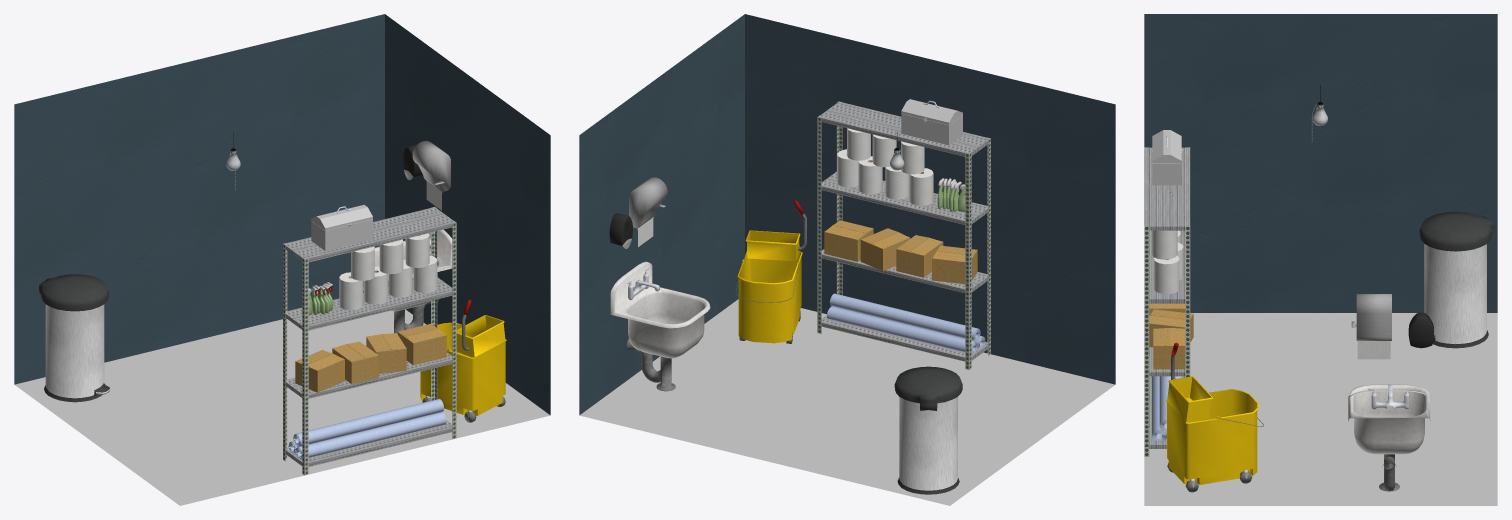
Rendered from storageCloset.gltf.
The picture shows the model from 3 angles, left to right: view 1: azimuth 30°, elevation 25°; view 2: azimuth 150°, elevation 25°; view 3: azimuth 270°, elevation 25°; orthographic projection. The views are drawn at different scales.
Visible parts, largest first — view 1: closetWalls, Box004, Box002, Cylinder005, Box005, go_toolbox, stepTrashCan, Helix003, Helix001, go_cardboardBox, go_cardboardBox003, go_cardboardBox002 (+10 smaller); view 2: closetWalls, Box004, Box002, sinkBody, Cylinder005, Box005, stepTrashCan, go_toolbox, Helix003, Helix002, go_cardboardBox, go_cardboardBox001 (+12 smaller); view 3: closetWalls, Box002, Cylinder005, sinkBody, Box004, Box005, stepTrashCan, case, go_toolbox, go_cardboardBox, go_paperTowelRoll003, go_cardboardBox001 (+7 smaller).
Part boxes in pixels (box(x1,y1,x2,y2)): closetWalls: box(14, 14, 550, 505); Box004: box(284, 207, 455, 466); Box002: box(420, 315, 506, 415); Cylinder005: box(44, 304, 104, 402); Box005: box(283, 207, 456, 475); go_toolbox: box(311, 204, 372, 250); stepTrashCan: box(39, 274, 108, 311); Helix003: box(293, 399, 443, 446); Helix001: box(295, 412, 446, 459); go_cardboardBox: box(397, 323, 446, 365); go_cardboardBox003: box(295, 350, 344, 392); go_cardboardBox002: box(332, 341, 378, 384); closetWalls: box(579, 14, 1115, 505); Box004: box(818, 101, 990, 361); Box002: box(737, 230, 802, 343); sinkBody: box(610, 261, 710, 358); Cylinder005: box(897, 397, 959, 494); Box005: box(817, 101, 990, 369); stepTrashCan: box(894, 366, 962, 410); go_toolbox: box(901, 99, 962, 145); Helix003: box(829, 293, 980, 341); Helix002: box(827, 307, 977, 353); go_cardboardBox: box(824, 220, 873, 261); go_cardboardBox001: box(860, 228, 910, 270); closetWalls: box(1144, 14, 1497, 505); Box002: box(1166, 376, 1258, 484); Cylinder005: box(1424, 244, 1488, 348); sinkBody: box(1348, 384, 1430, 454); Box004: box(1144, 147, 1189, 448); Box005: box(1144, 147, 1190, 456); stepTrashCan: box(1419, 211, 1494, 251); case: box(1356, 294, 1391, 340); go_toolbox: box(1152, 130, 1182, 185); go_cardboardBox: box(1153, 328, 1185, 369); go_paperTowelRoll003: box(1154, 256, 1179, 293); go_cardboardBox001: box(1149, 309, 1193, 347).
Size of the model in its own units: 3.88 by 2.81 by 3.
